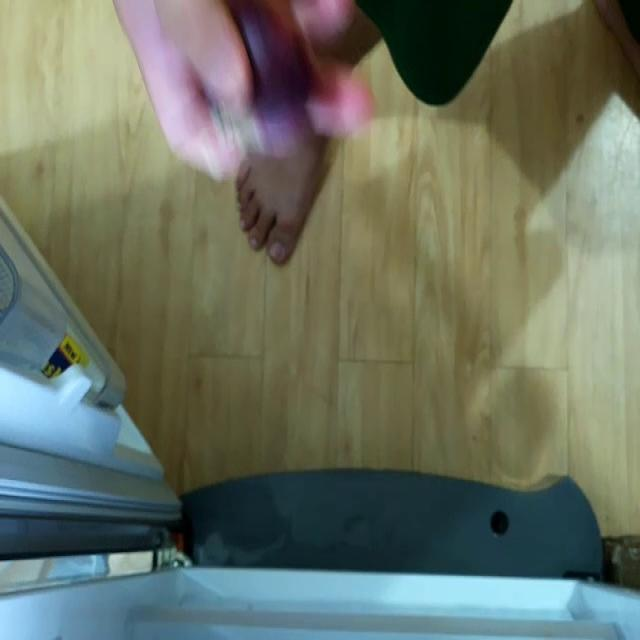onion: (198, 10, 312, 157)
